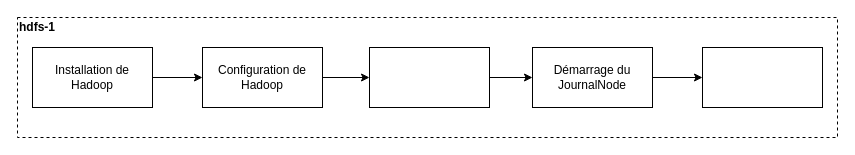
Image size: 855x155. Some labels were removed from this diagram. The shapes that lost their labels are listed below. From the top down, each one's centre as x and y in pixels, then its label:
At pixel 429 77: "Formattage de la partion HDFS".
At pixel 762 77: "Configuration de Monit".
